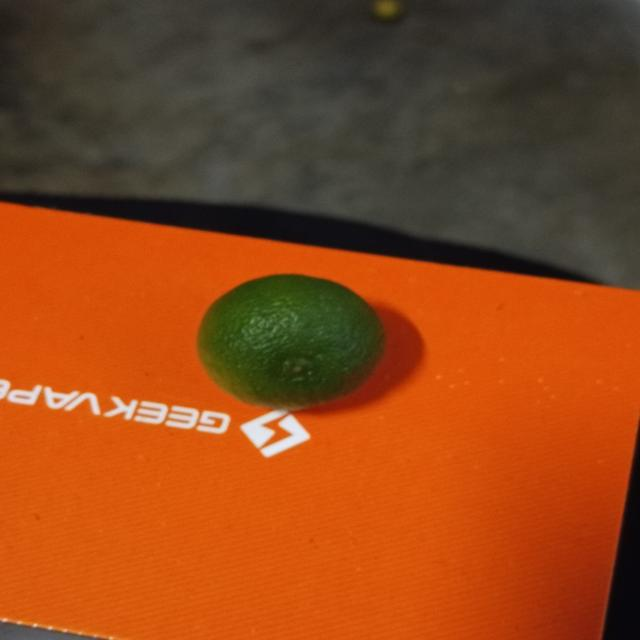heathy: (180, 267, 404, 425)
